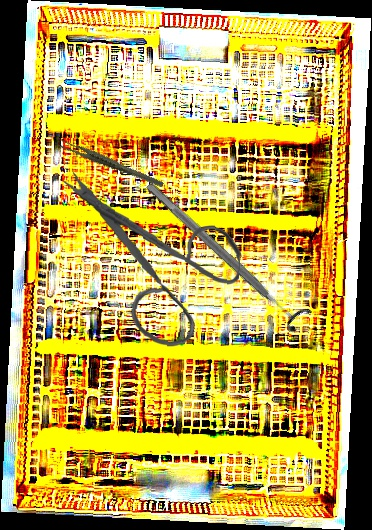Fixation Ring: (137, 172, 314, 336)
Iris Scissors: (52, 166, 246, 353)
Tissue Forceps: (57, 122, 165, 206)
